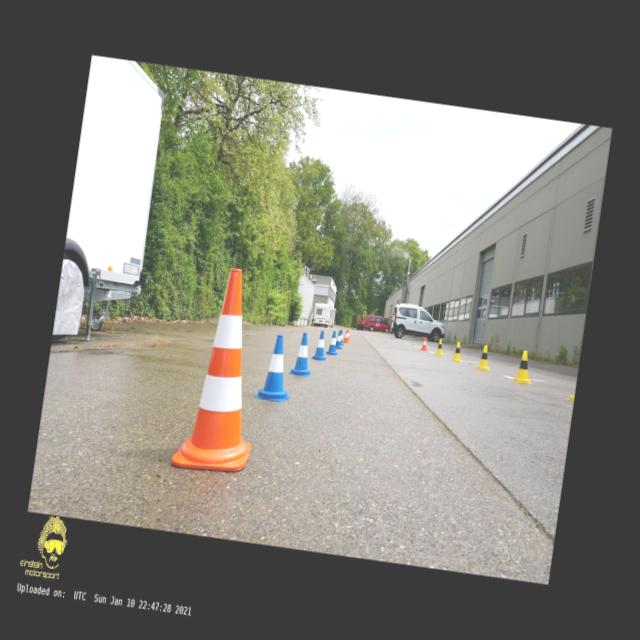blue_cone: (254, 333, 299, 404), (289, 332, 316, 378), (312, 330, 329, 361), (326, 330, 341, 356), (335, 330, 345, 350), (340, 330, 346, 346)
large_orange_cone: (170, 264, 274, 476)
orange_cone: (343, 329, 350, 344), (421, 337, 428, 351), (346, 329, 350, 340)
yellow_cone: (512, 350, 536, 384), (476, 344, 493, 370), (452, 340, 464, 362), (435, 338, 445, 356)
